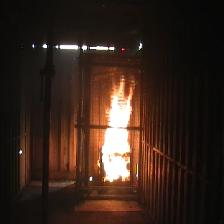fire: (102, 76, 134, 182)
